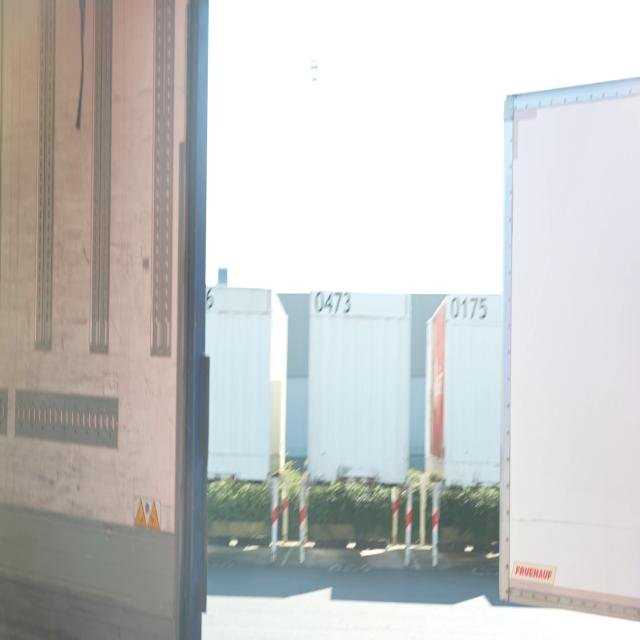Code: (448, 292, 489, 330), (314, 286, 354, 317)
